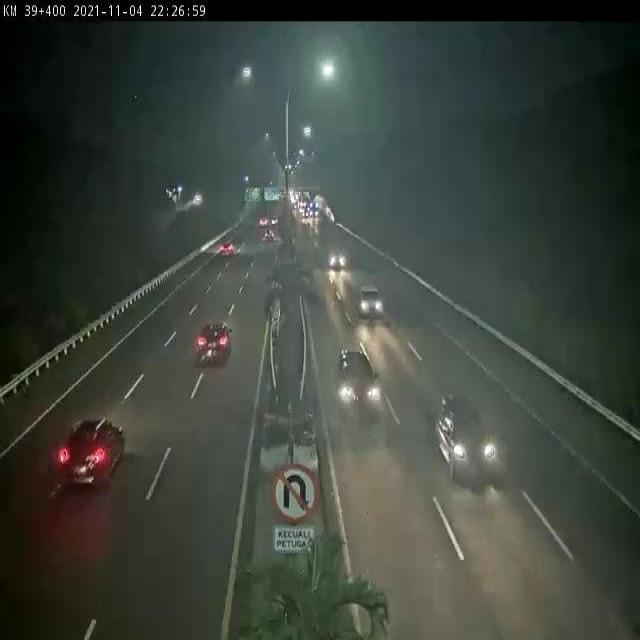car: (58, 412, 125, 489), (436, 394, 496, 474), (336, 346, 382, 418), (196, 320, 233, 363), (358, 281, 385, 320)
